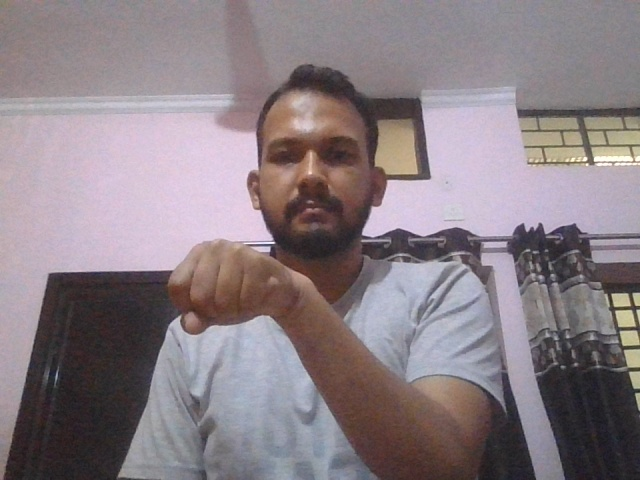yes: (166, 239, 295, 336)
